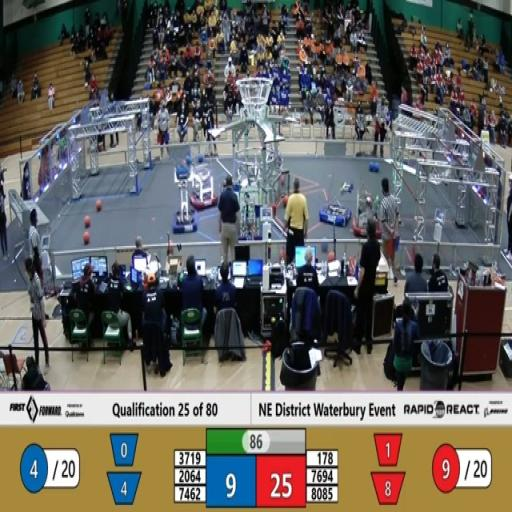robot: (169, 156, 200, 240), (230, 175, 264, 248), (349, 184, 386, 243), (184, 152, 219, 214), (318, 185, 352, 232)
